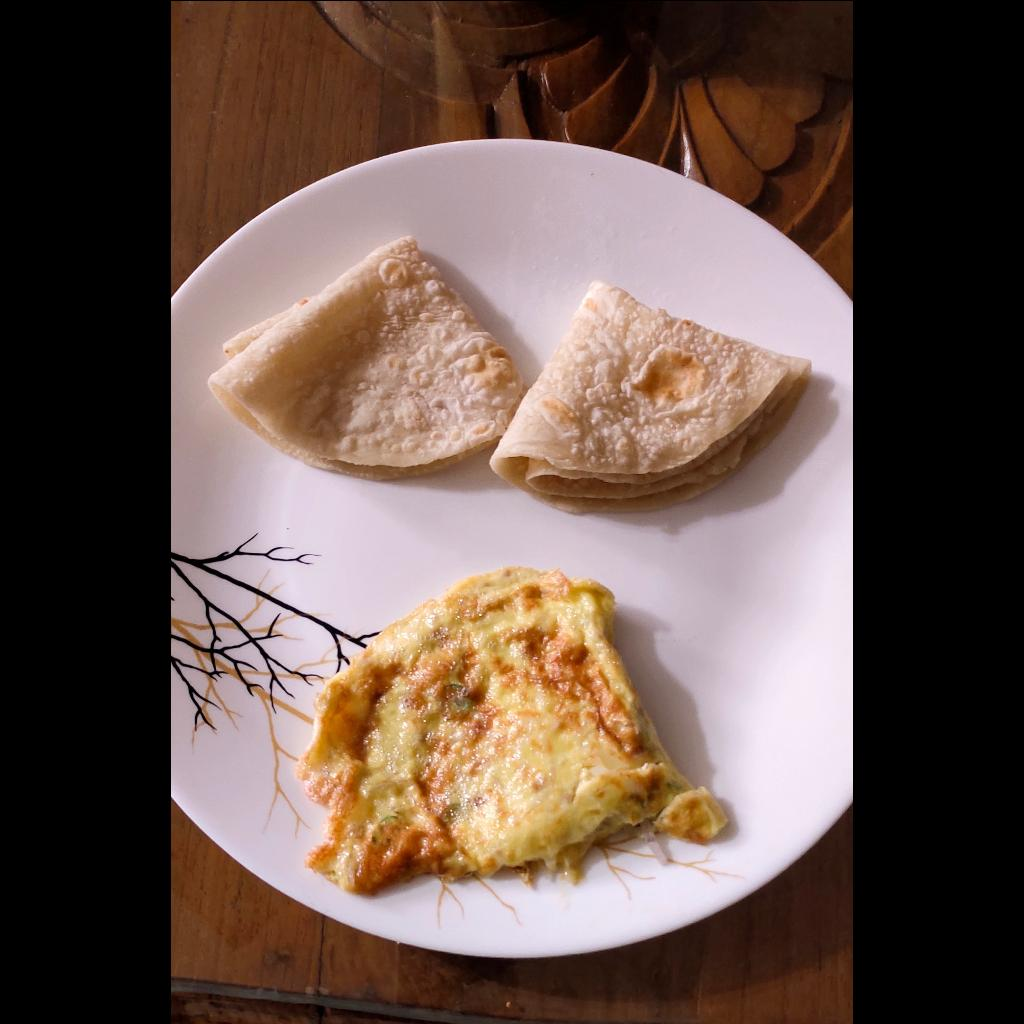egg-poached: (287, 561, 744, 902)
ruti: (202, 233, 809, 520)
